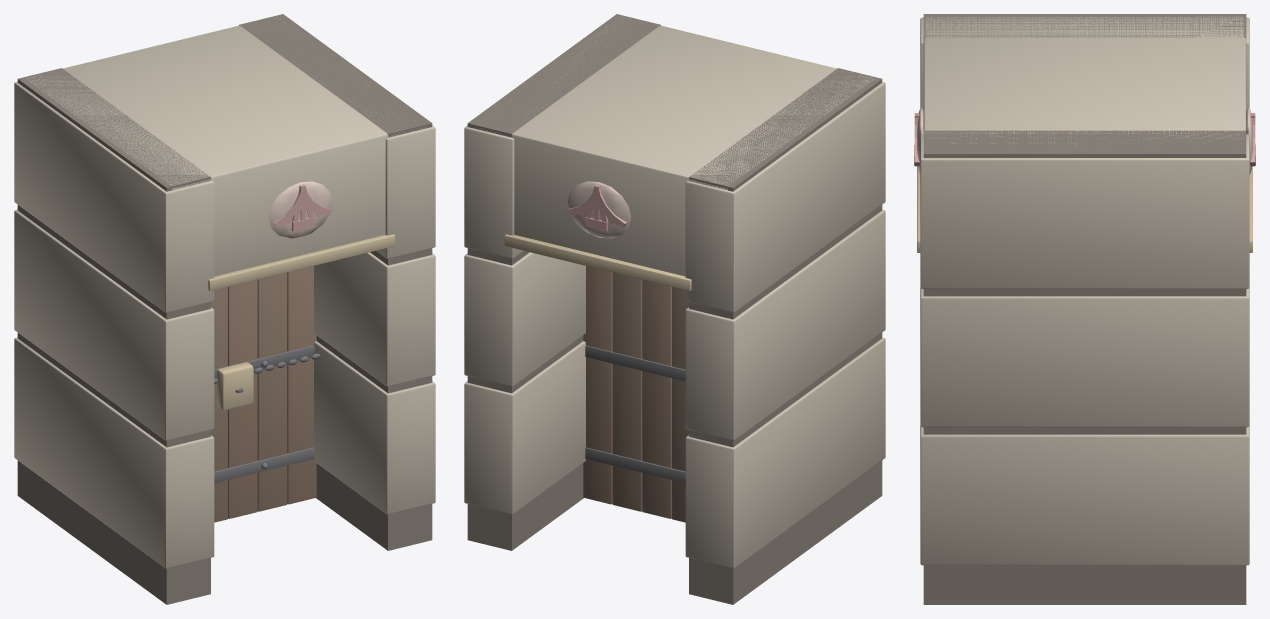
Rendered from dk_door_lock.gltf.
3 renders of one model, left to right at view 1: azimuth 30°, elevation 25°; view 2: azimuth 150°, elevation 25°; view 3: azimuth 270°, elevation 25°, orthographic. The views are drawn at different scales.
Visible parts, largest first — view 1: Body, Leaf, Lock; view 2: Body, Leaf; view 3: Body.
Boxes of the visible parts, <box> form: Body: <box>14,14,435,604</box>; Leaf: <box>211,266,316,522</box>; Lock: <box>214,353,320,410</box>; Body: <box>464,14,885,604</box>; Leaf: <box>583,266,688,522</box>; Body: <box>914,14,1255,604</box>.
Bounding box in the file's own units: 3.06 × 4.5 × 3.09.
